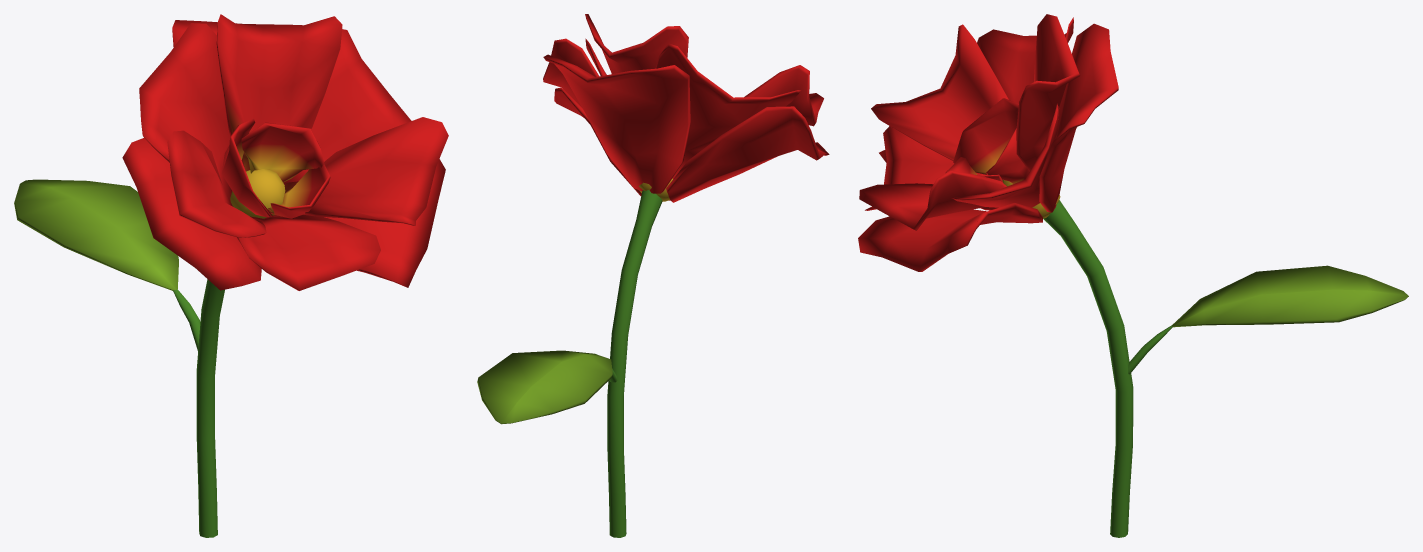
The model's file is AntonioCenarioFase1.fbx_Rosa.fbx.
3 views of the same model, side by side, from view 1: azimuth 30°, elevation 25°; view 2: azimuth 150°, elevation 25°; view 3: azimuth 270°, elevation 25° (orthographic). The views are drawn at different scales.
Visible parts, largest first — view 1: Rosa; view 2: Rosa; view 3: Rosa.
Part boxes in pixels (box(x1,y1,x2,y2)): Rosa: box(14, 14, 448, 537); Rosa: box(477, 14, 829, 537); Rosa: box(858, 14, 1408, 537).
Bounding box in the file's own units: 181 × 315 × 310.
